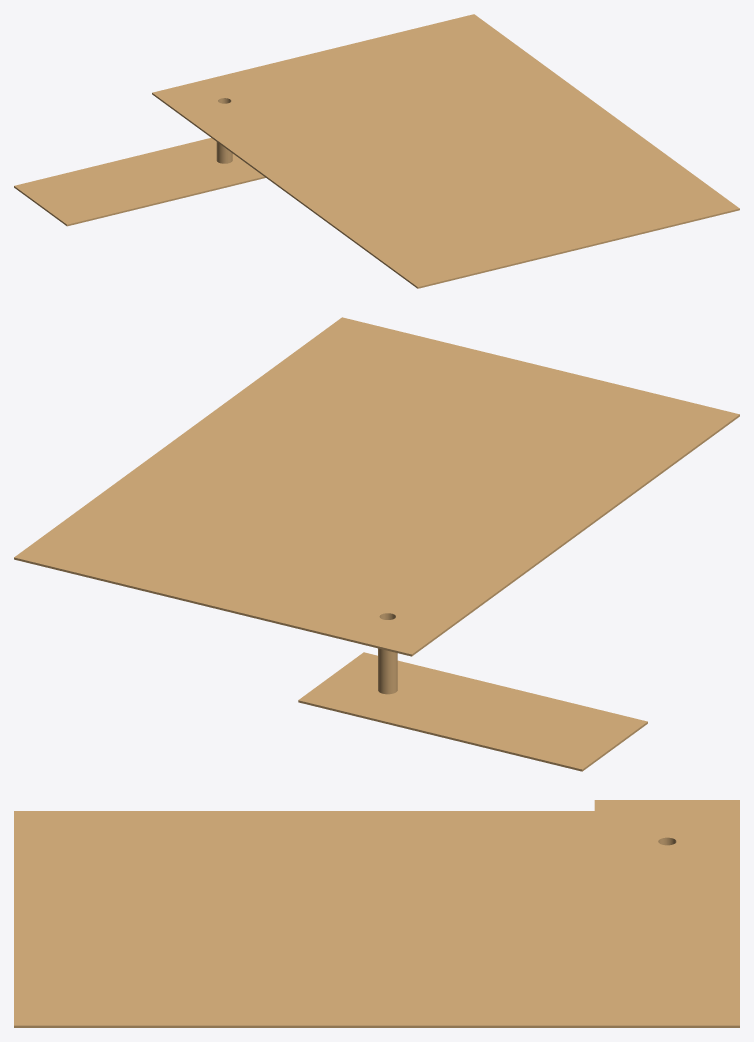
The model's file is board.glb.
3 views of the same model, one above another, from view 1: azimuth 30°, elevation 25°; view 2: azimuth 150°, elevation 25°; view 3: azimuth 270°, elevation 25° (orthographic). The views are drawn at different scales.
Parts seen in each view (by area): view 1: Unified_Net_1_Island_2, Unified_Net_1_Island_1; view 2: Unified_Net_1_Island_2, Unified_Net_1_Island_1, Bare_Via_Tube_2; view 3: Unified_Net_1_Island_2, Unified_Net_1_Island_1.
Part boxes in pixels (x1,y1,x2,y2): Unified_Net_1_Island_2: [152, 14, 739, 288]; Unified_Net_1_Island_1: [14, 138, 265, 226]; Unified_Net_1_Island_2: [14, 317, 739, 656]; Unified_Net_1_Island_1: [298, 652, 647, 771]; Bare_Via_Tube_2: [378, 613, 397, 694]; Unified_Net_1_Island_2: [14, 811, 739, 1027]; Unified_Net_1_Island_1: [594, 800, 739, 810].
Bounding box in the file's own units: 0.01 × 0.00127 × 0.01.
